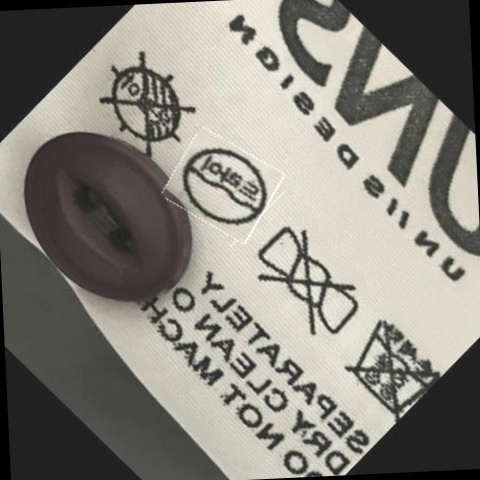DN_dry: (99, 56, 195, 153)
DN_wring: (254, 231, 362, 338)
dry_clean: (181, 142, 266, 232)
hand_wash: (345, 313, 434, 413)
